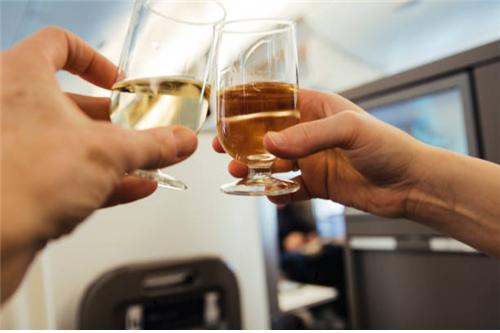alcohol: (109, 0, 227, 192), (211, 21, 303, 198)
